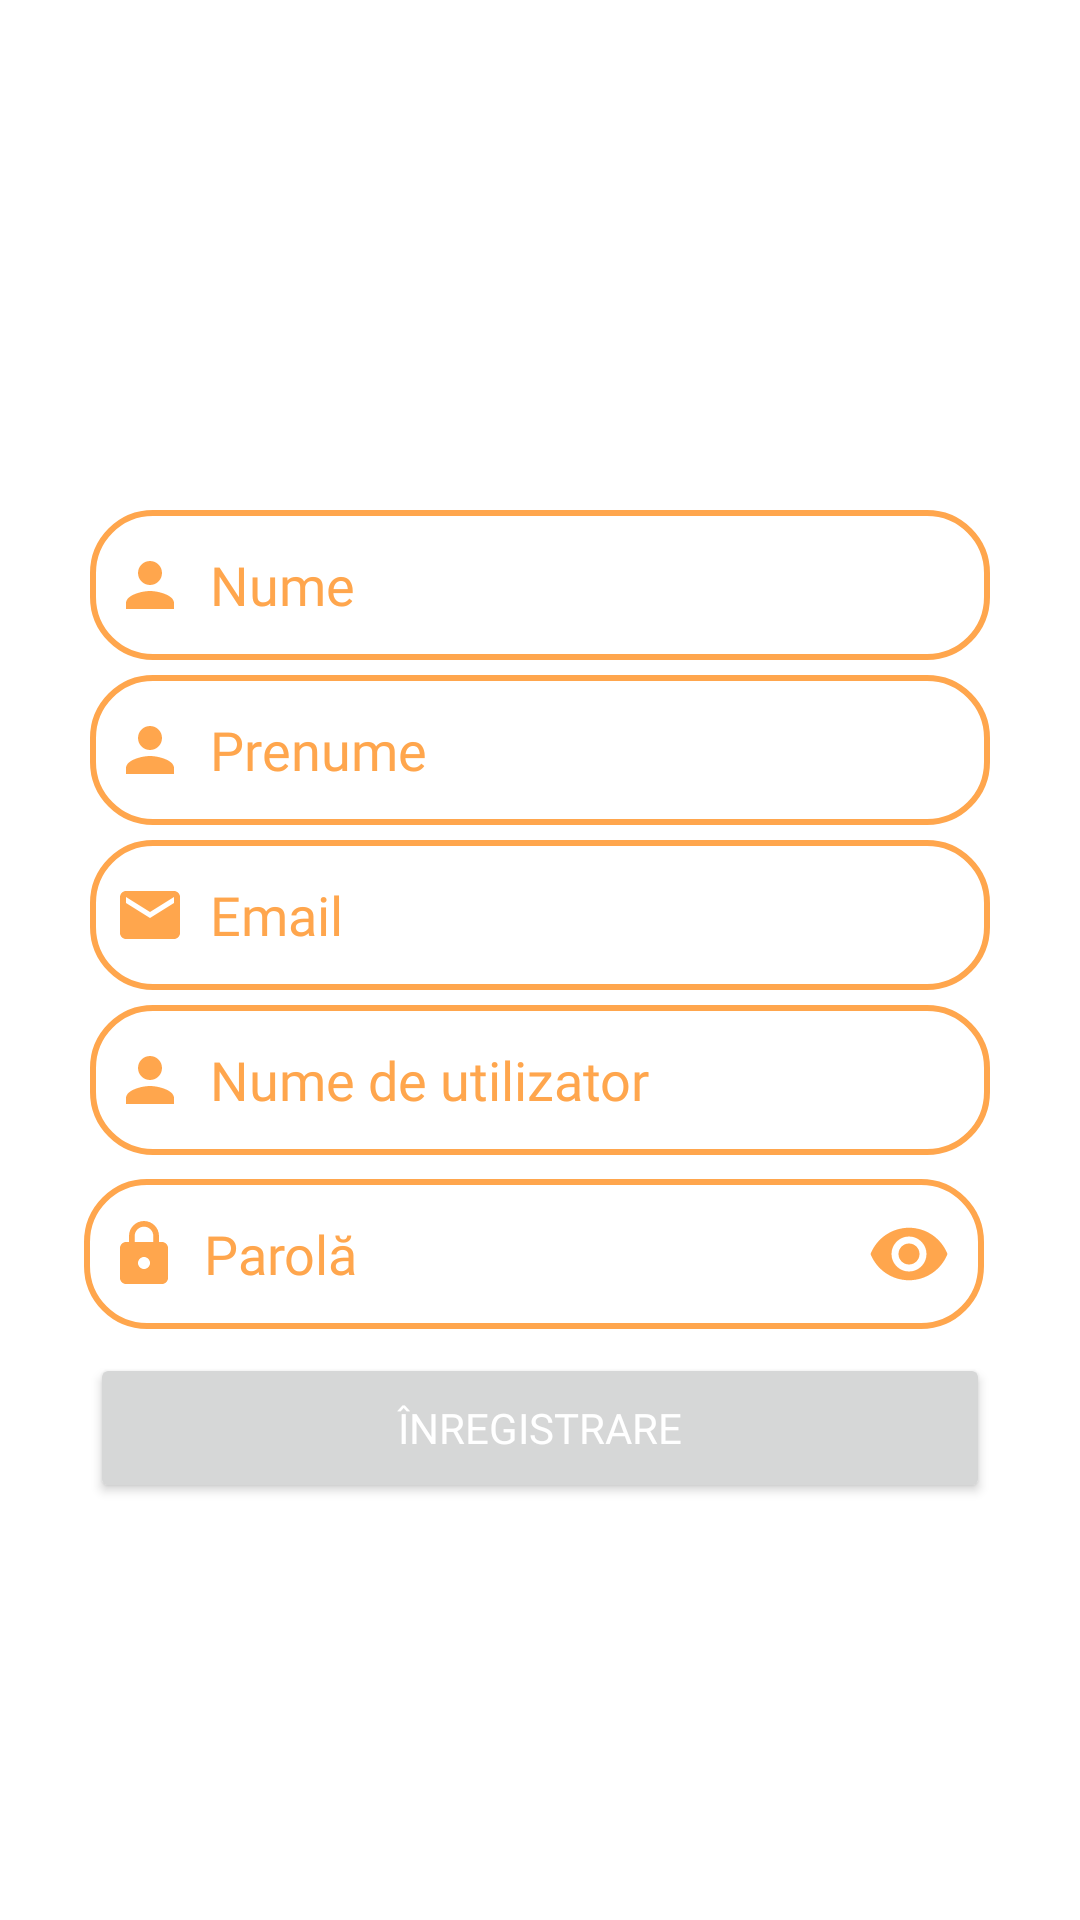

Screen size 1080w x 1920h. Icon name, then its center in pixels as point (x, y):
hide: point (909, 1254)
